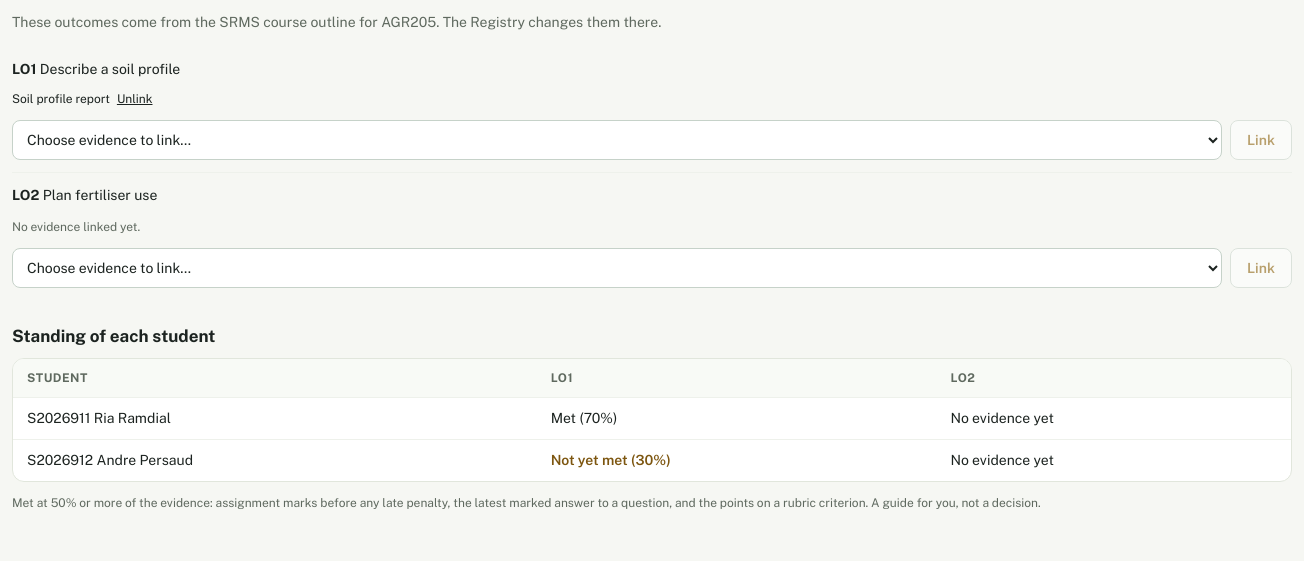
it: learning outcomes (item 3.11) › says when a link is refused
Select "Soil profile report" in the dropdown named "Evidence to link to LO1" below "Describe a soil profile" at (617, 140), box x1=12 y1=120 x2=1222 y2=160
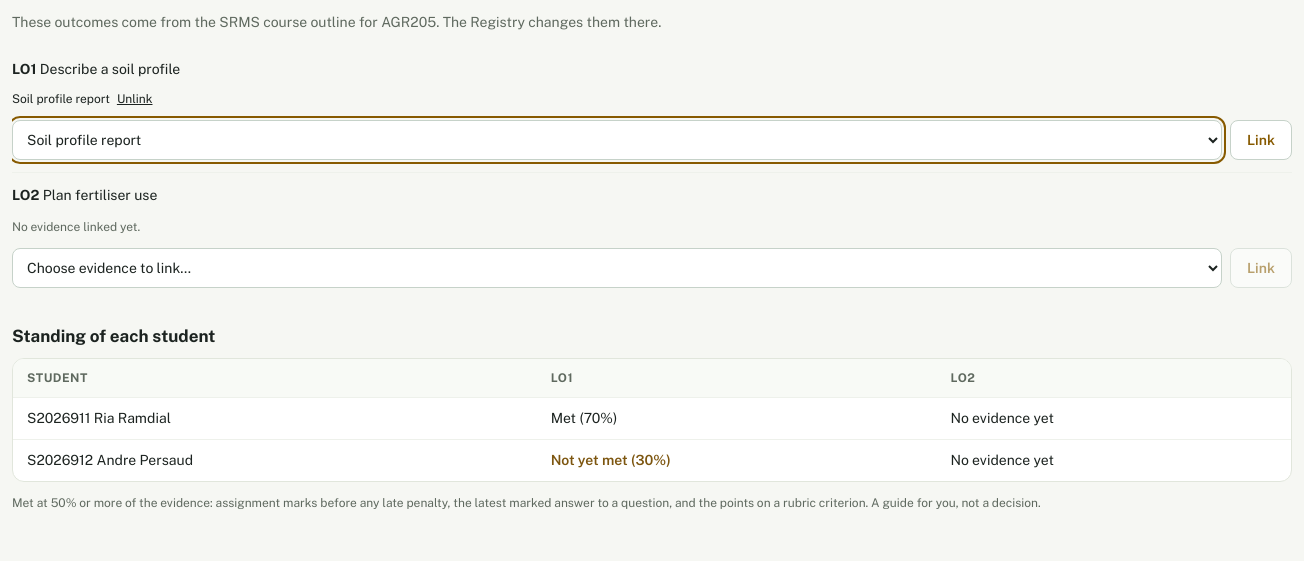
Click the 1st button "Link" at (1261, 140), box x1=1230 y1=120 x2=1292 y2=160
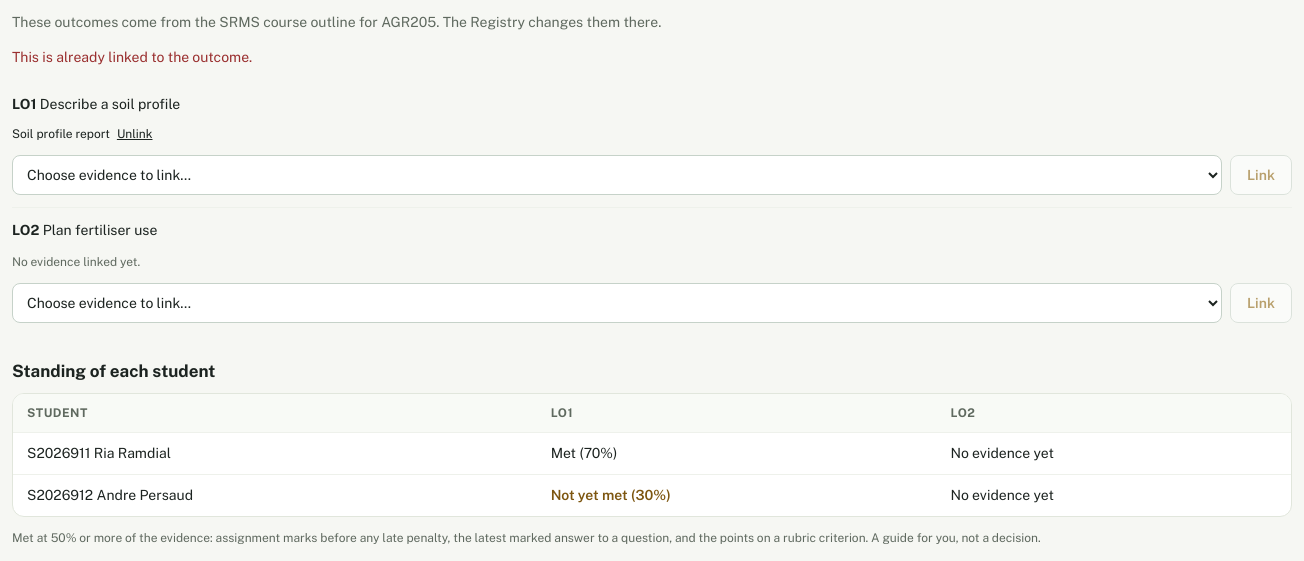
Check: the message reads "This is already linked to the outcome.", box x1=12 y1=49 x2=252 y2=65
